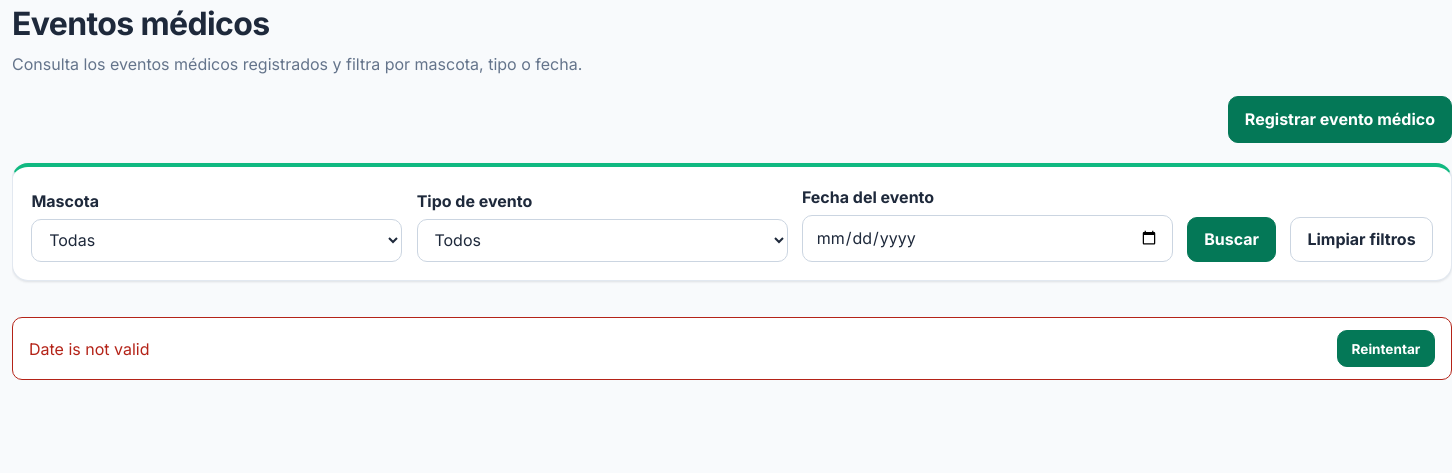
Test: MedicalEventsPage › shows the backend message and retries the failed request
Expected: the message shows "Date is not valid", x1=29 y1=339 x2=150 y2=359
Click the button "Reintentar": (1386, 349) x1=1337 y1=330 x2=1435 y2=367
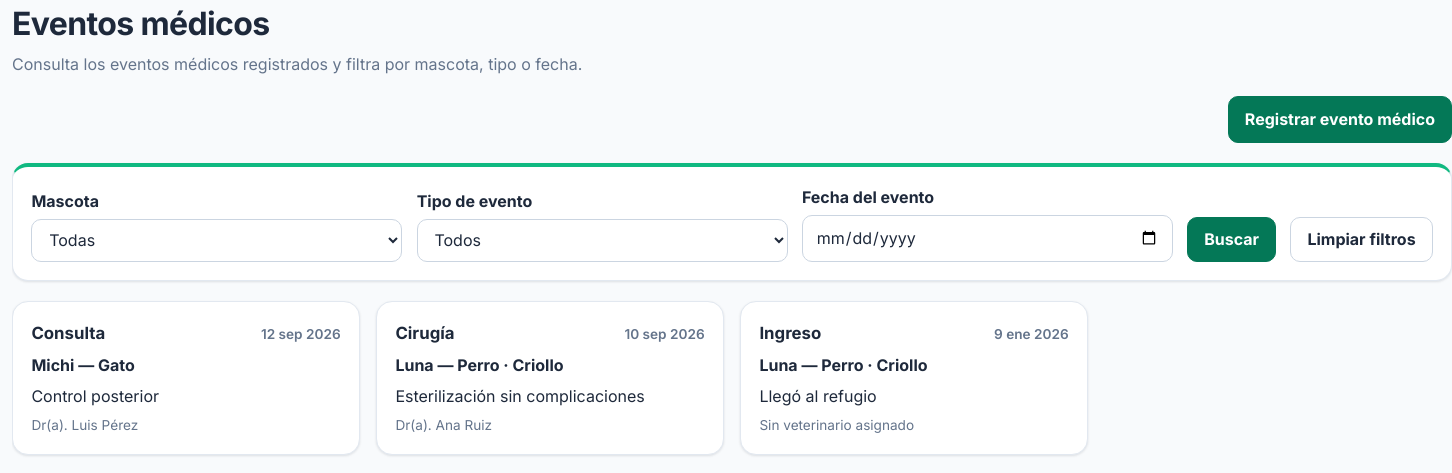
Now the number of list items is 3, box x1=12 y1=301 x2=360 y2=455; x1=376 y1=301 x2=724 y2=455; x1=740 y1=301 x2=1088 y2=455
